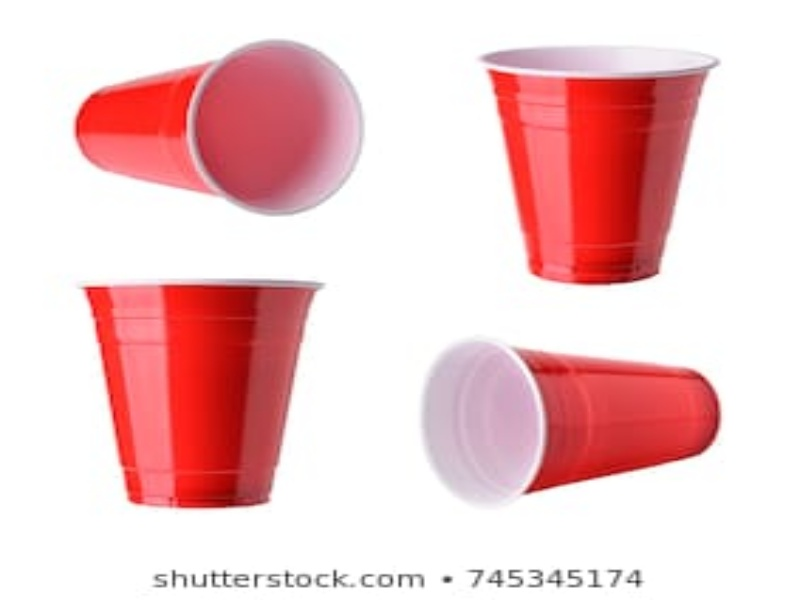plastic-cup: (472, 42, 719, 287), (75, 276, 328, 511), (76, 37, 364, 217), (418, 335, 721, 501)
